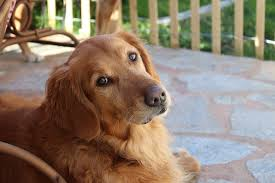dog: (90, 48, 172, 127)
